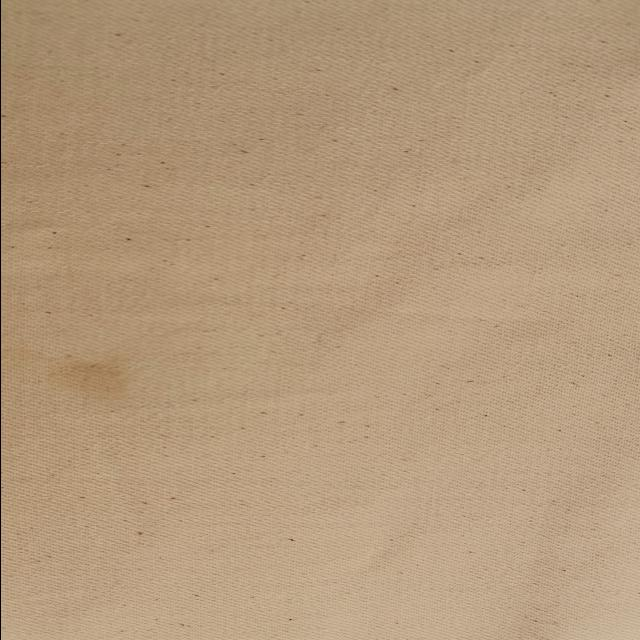taaaches: (48, 349, 152, 403)
